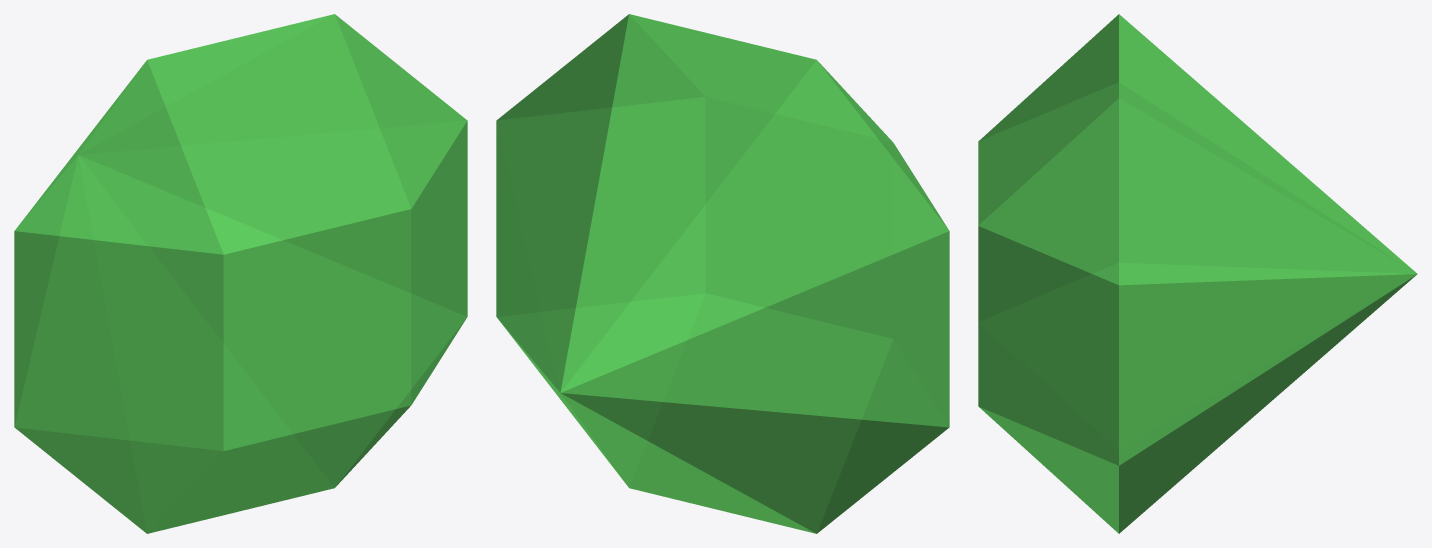
File: SquareCupola.obj
3 views of the same model, side by side, from view 1: azimuth 30°, elevation 25°; view 2: azimuth 150°, elevation 25°; view 3: azimuth 270°, elevation 25° (orthographic). The views are drawn at different scales.
Bounding box in the file's own units: 2.41 × 2.41 × 2.21.
